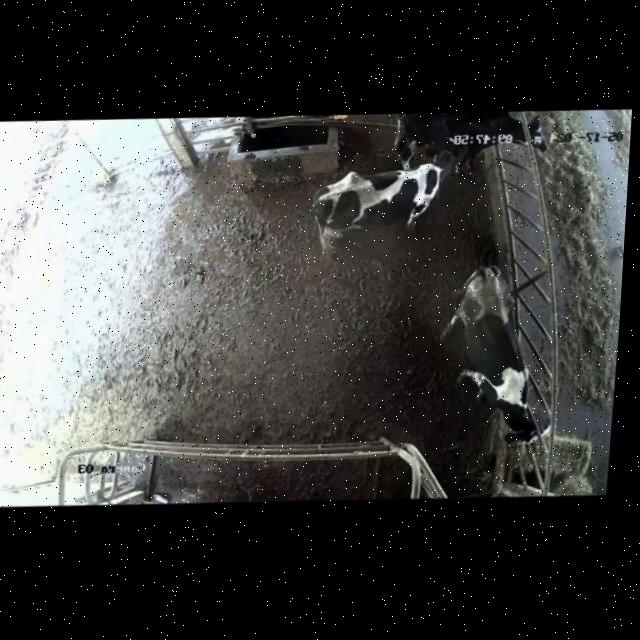eat: (483, 384, 600, 465), (466, 109, 577, 167)
stand: (303, 143, 462, 257)
